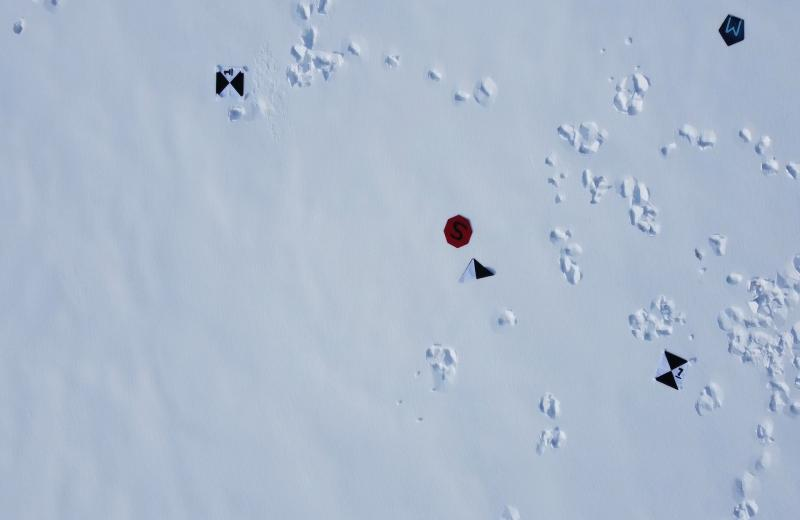Octagon: (437, 205, 481, 257)
Pentagon: (712, 6, 756, 51)
